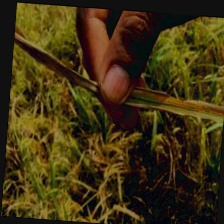Leaf_Blast: (18, 40, 224, 130)
